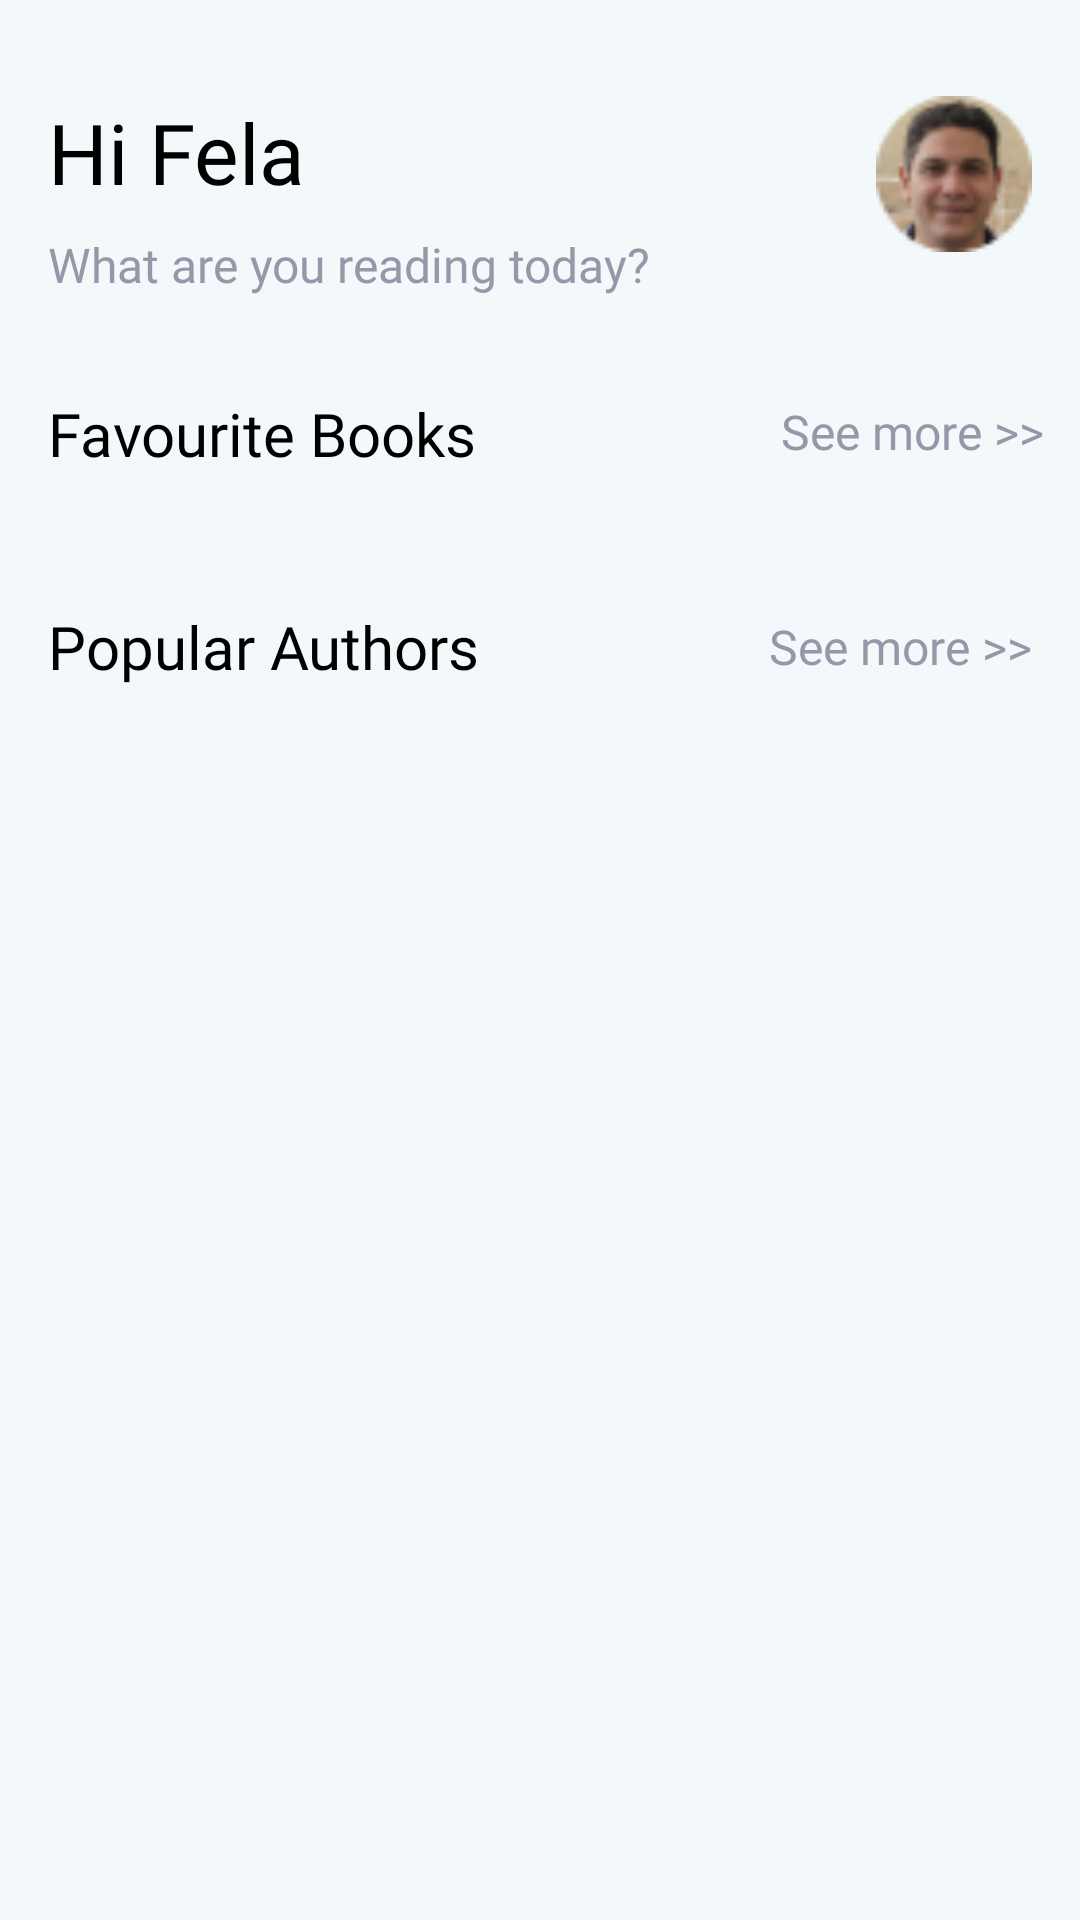

Screen size 1080 × 1920. Icon name, then its box in pixels as (x1, y1, x2, y2):
User Avatar: (876, 96, 1032, 252)
